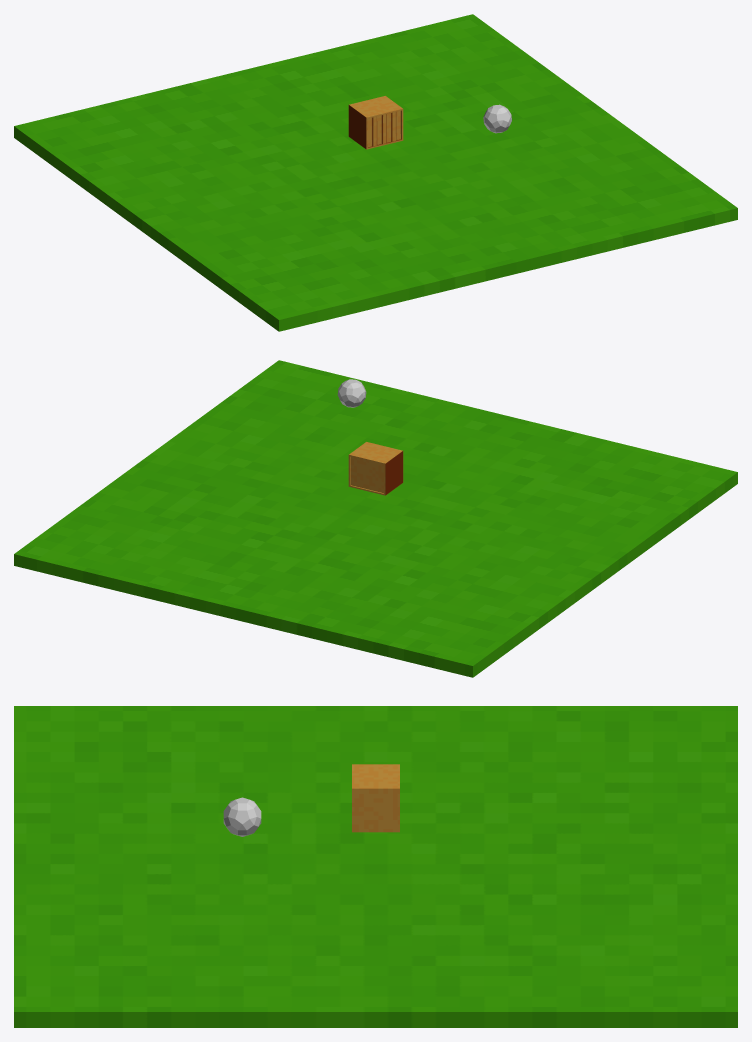
3 renders of one model, top to bottom at view 1: azimuth 30°, elevation 25°; view 2: azimuth 150°, elevation 25°; view 3: azimuth 270°, elevation 25°, orthographic. The views are drawn at different scales.
Visible parts, largest first — view 1: Ground, Box, Ball; view 2: Ground, Box, Ball; view 3: Ground, Box, Ball.
Boxes of the visible parts, bbox=[...] form: Ground: bbox=[14, 14, 737, 331]; Box: bbox=[348, 96, 403, 149]; Ball: bbox=[483, 104, 511, 133]; Ground: bbox=[14, 360, 737, 677]; Box: bbox=[348, 442, 403, 495]; Ball: bbox=[337, 379, 366, 407]; Ground: bbox=[14, 706, 737, 1027]; Box: bbox=[352, 764, 399, 832]; Ball: bbox=[223, 797, 261, 836].
Bounding box in the file's own units: 3000 × 562 × 3000.
